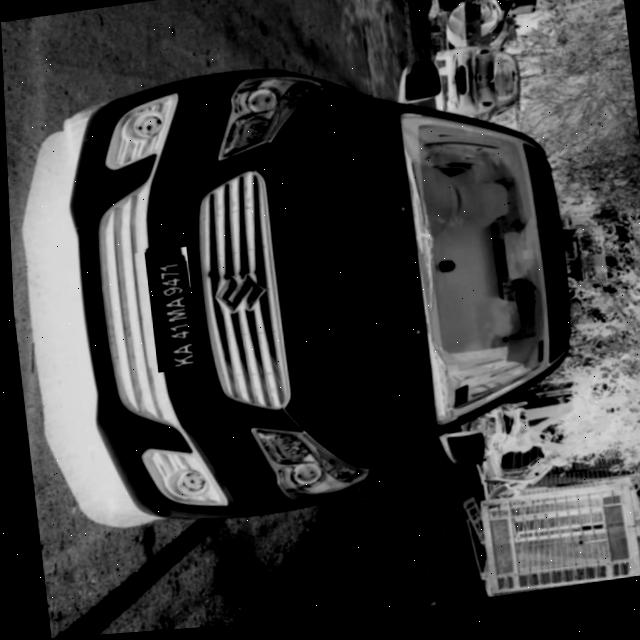Non_registered: (141, 248, 195, 375)
